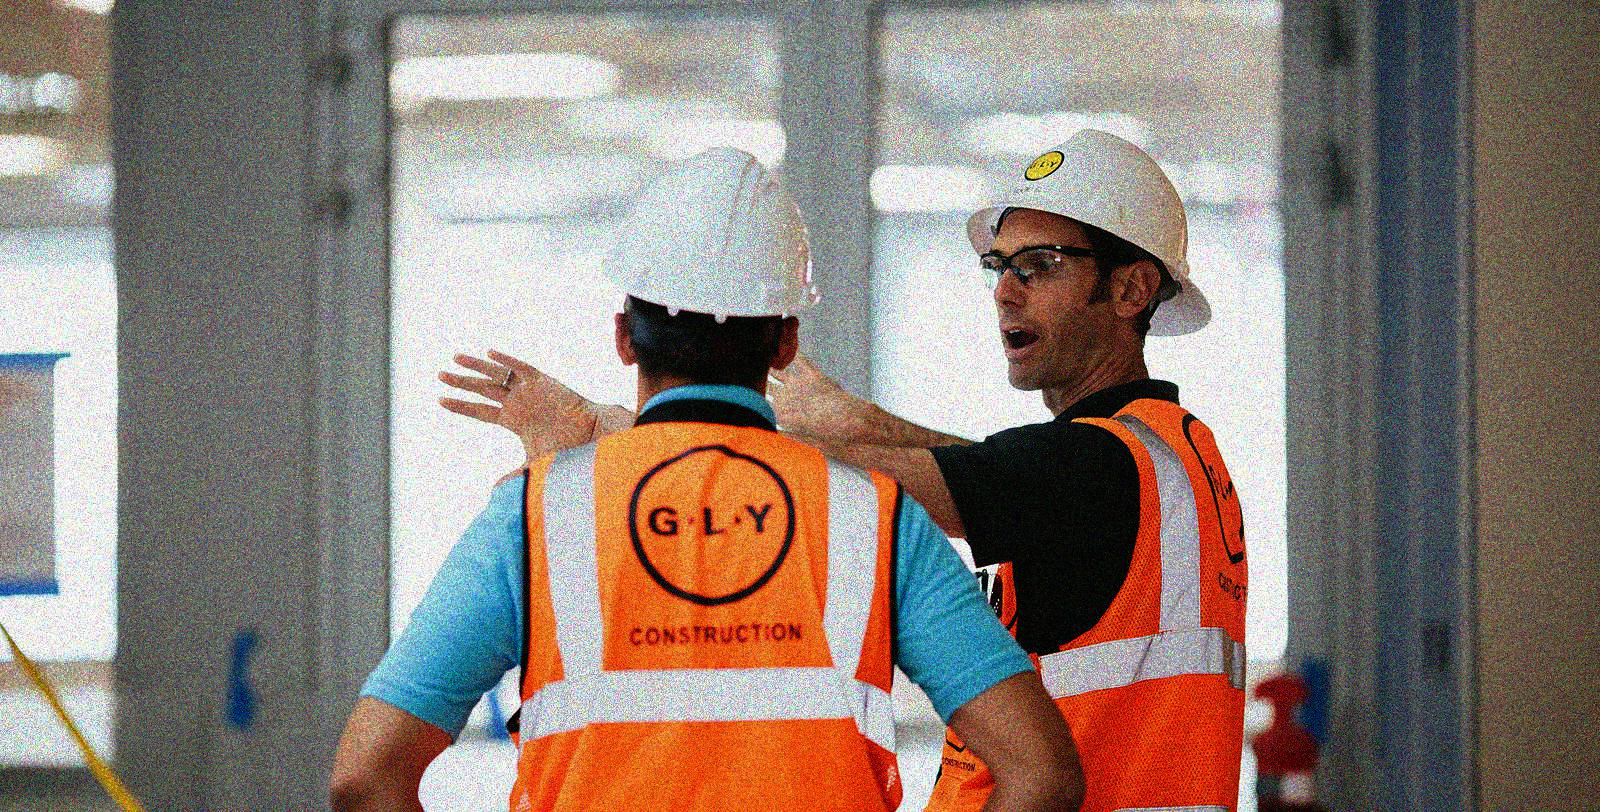helmet: (962, 123, 1218, 384), (601, 144, 830, 394)
